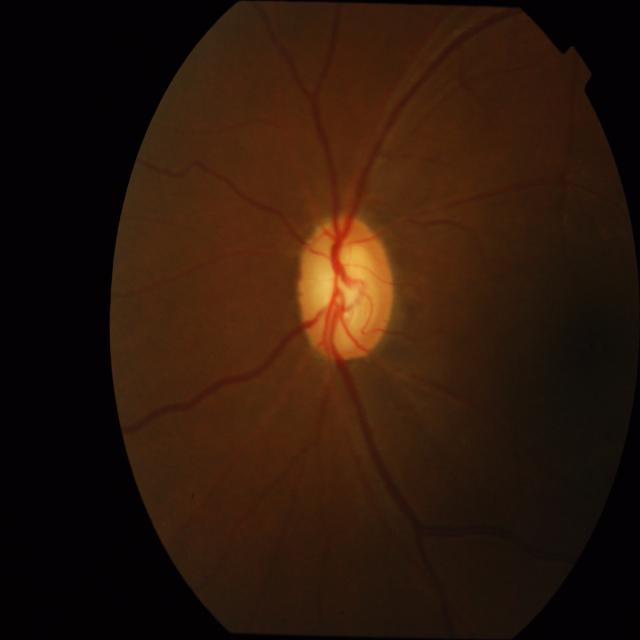OC: (305, 240, 378, 349)
OD: (297, 217, 394, 361)
